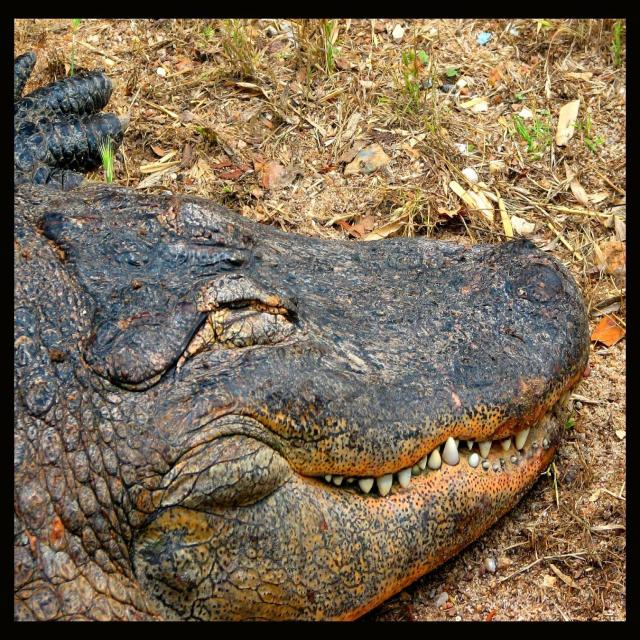crocodile: (1, 47, 640, 635)
